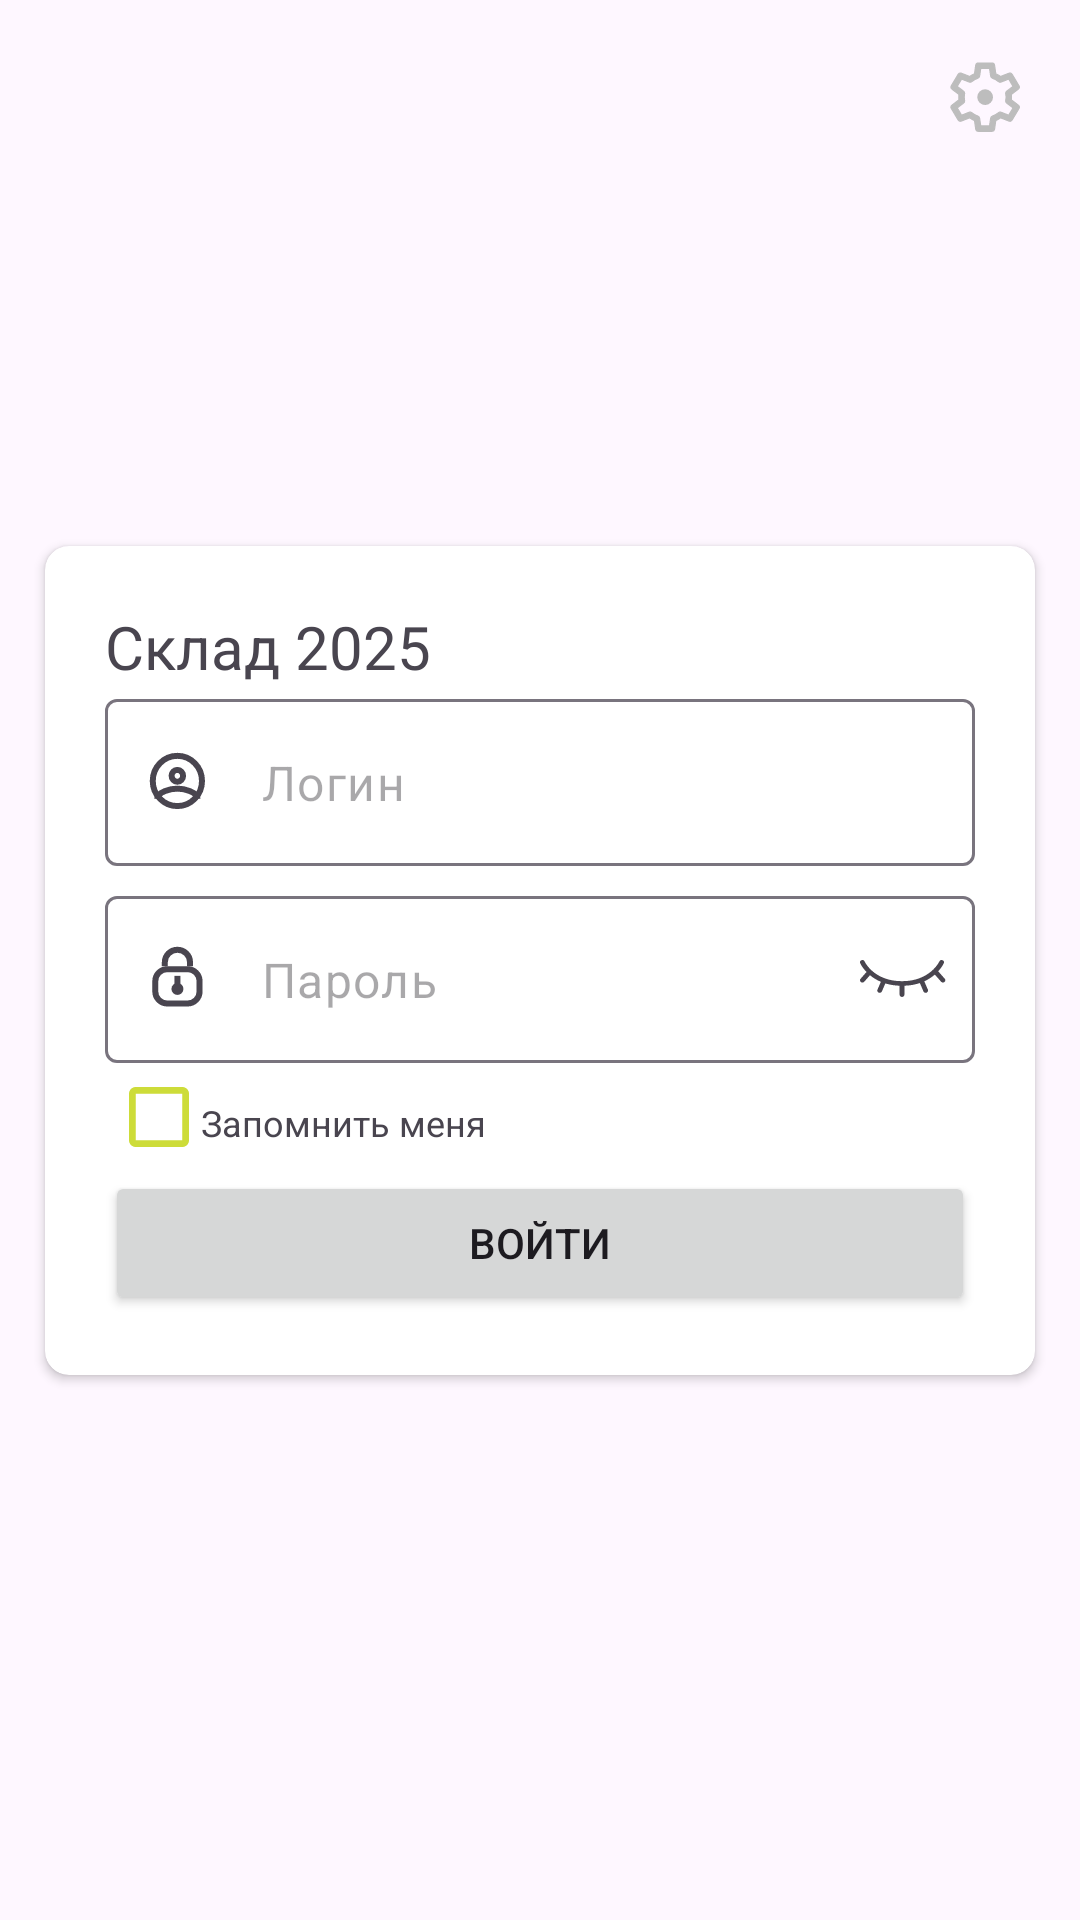

Icon click points for this 1080w x 1920h phone screenshot, format (x=x, y=y):
checkbox auto login: (x=159, y=1117)
Настройки: (x=985, y=97)
